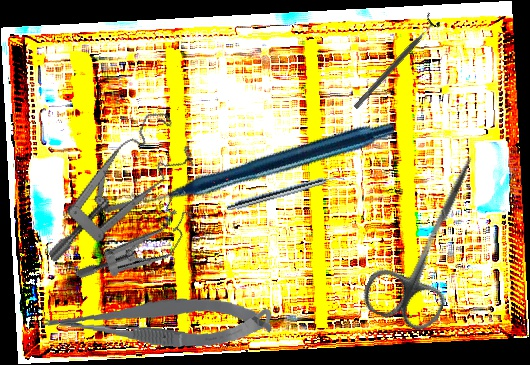Fixation Ring: (348, 12, 442, 114)
Handpiece: (129, 47, 397, 275), (225, 170, 346, 215)
Iris Scissors: (357, 139, 504, 338)
Micro Scissor: (41, 283, 273, 357)
Speculum: (13, 103, 211, 266), (74, 163, 206, 314)
